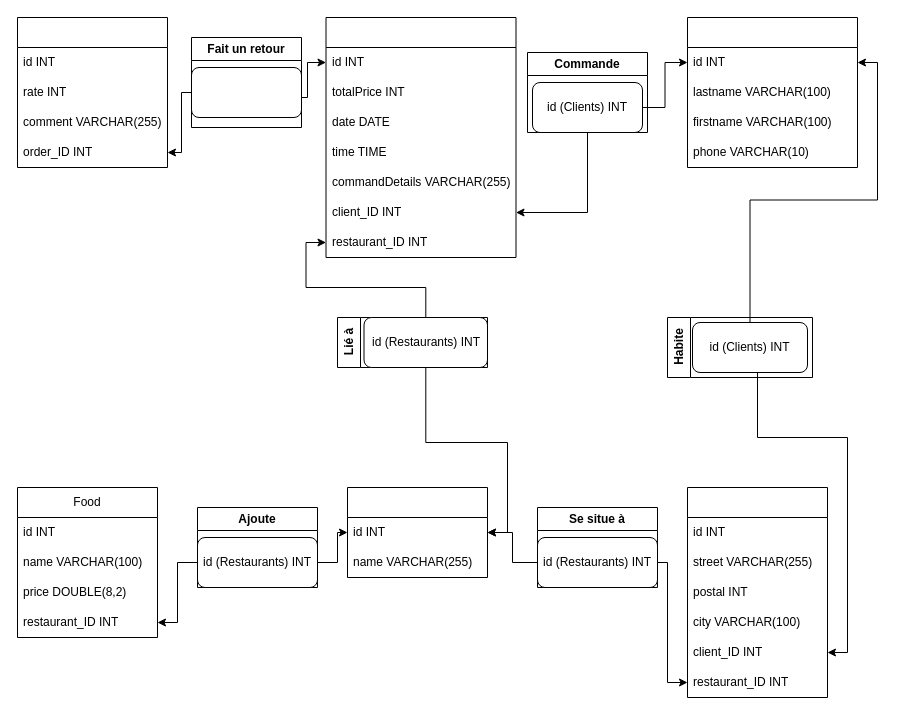
This 903x715 diagram has some shape labels left out. The box of each missing label's shape, as (x1, y1, x2, y2) in pixels:
Addresses: (686, 486, 828, 698)
Clients: (686, 16, 858, 168)
Feedbacks: (16, 16, 168, 168)
id (Orders) INT: (190, 66, 302, 118)
Orders: (325, 16, 516, 258)
Restaurants: (346, 486, 488, 578)
